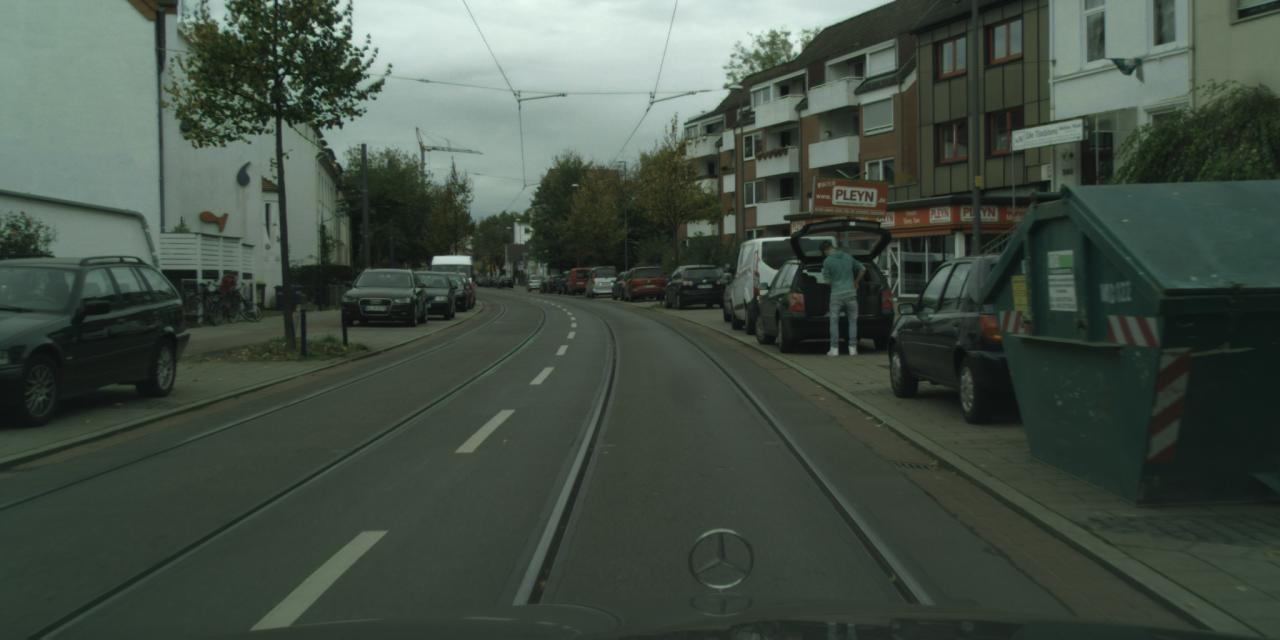ped: (811, 240, 858, 355)
